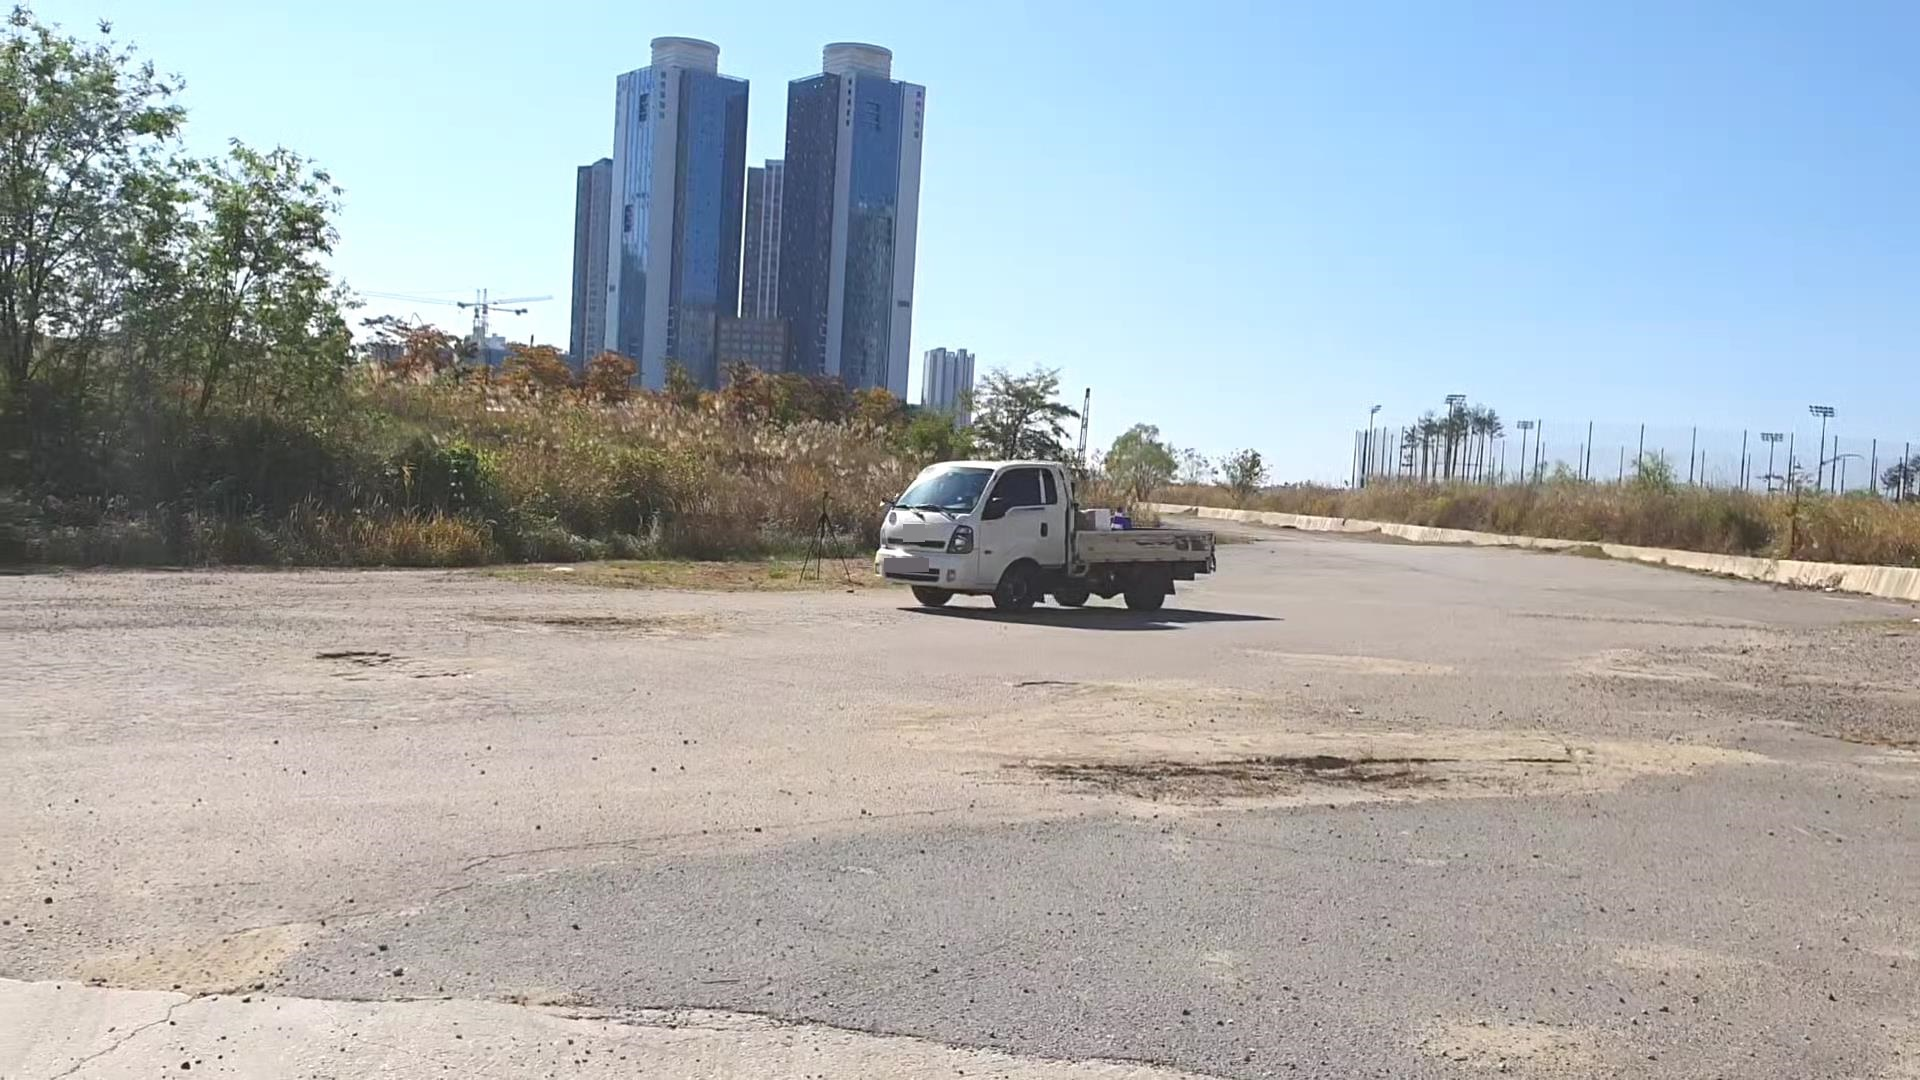불법차량: (874, 460, 1216, 611)
